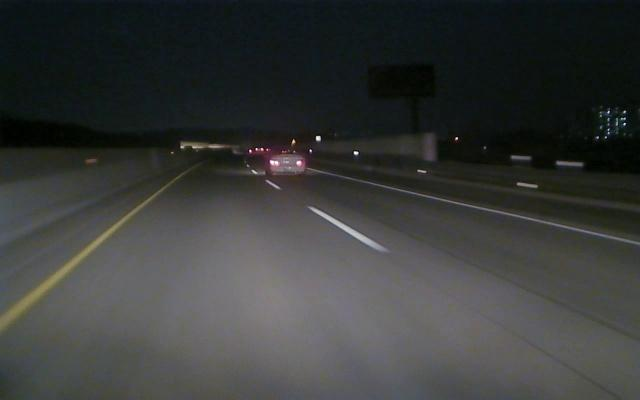lane: (312, 169, 637, 246), (2, 188, 163, 333), (269, 182, 392, 252)
